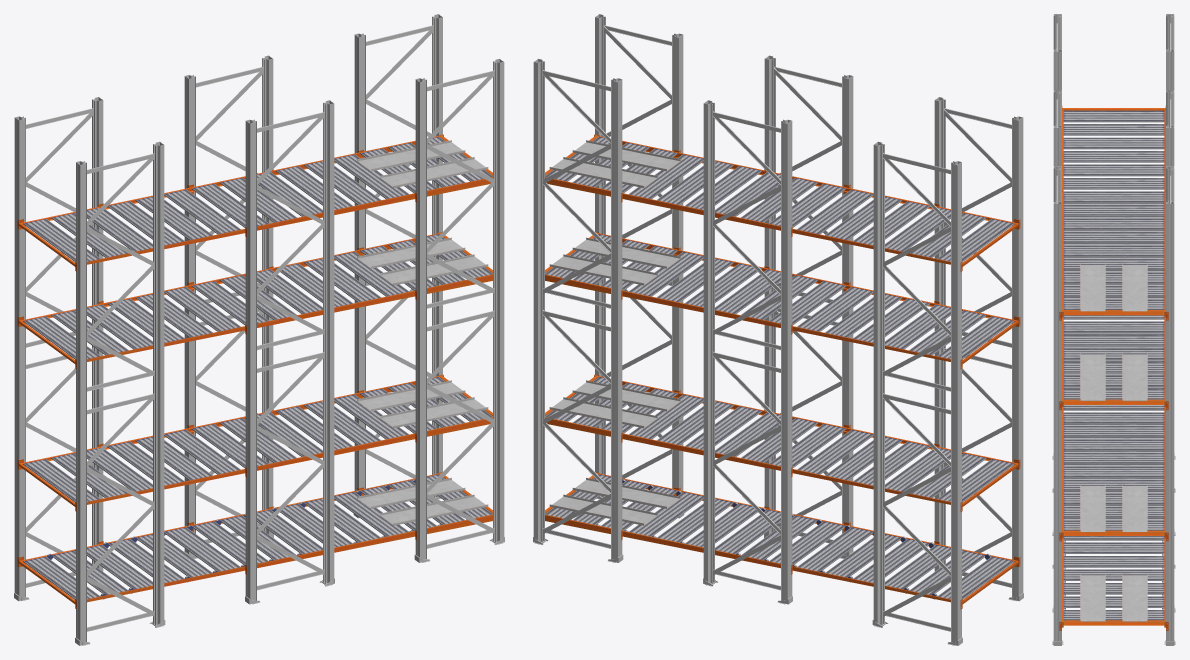
Rendered from 2_Carton_Flow.fbx.
3 views of the same model, side by side, from view 1: azimuth 30°, elevation 25°; view 2: azimuth 150°, elevation 25°; view 3: azimuth 270°, elevation 25° (orthographic). The views are drawn at different scales.
Visible parts, largest first — view 1: Puntales_Varias; view 2: Puntales_Varias; view 3: Puntales_Varias.
Boxes of the visible parts, left/top/right/bottom form: Puntales_Varias: left=14, top=14, right=504, bottom=645; Puntales_Varias: left=533, top=14, right=1023, bottom=645; Puntales_Varias: left=1052, top=14, right=1175, bottom=645.
Size of the model in its own units: 463 by 500 by 126.
